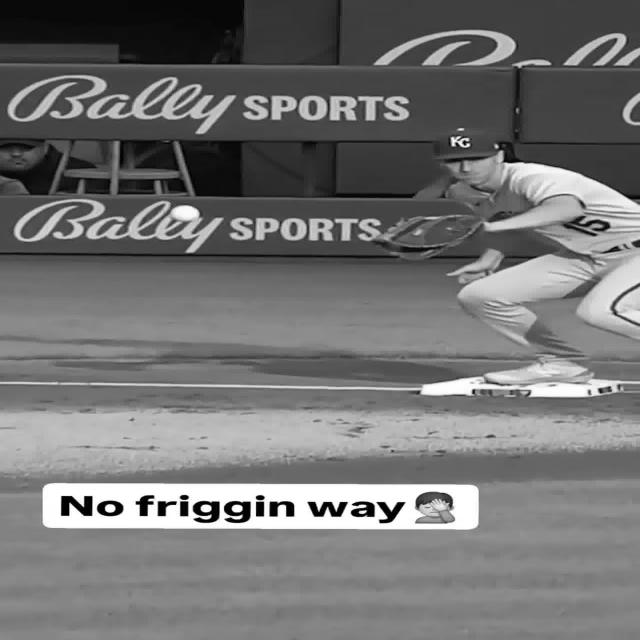base: (420, 376, 625, 398)
baseball: (171, 205, 200, 221)
baseball_glove: (373, 215, 485, 260)
shoe: (485, 356, 593, 385)
